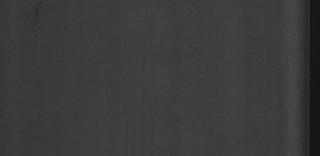water spot: (22, 1, 56, 36)
